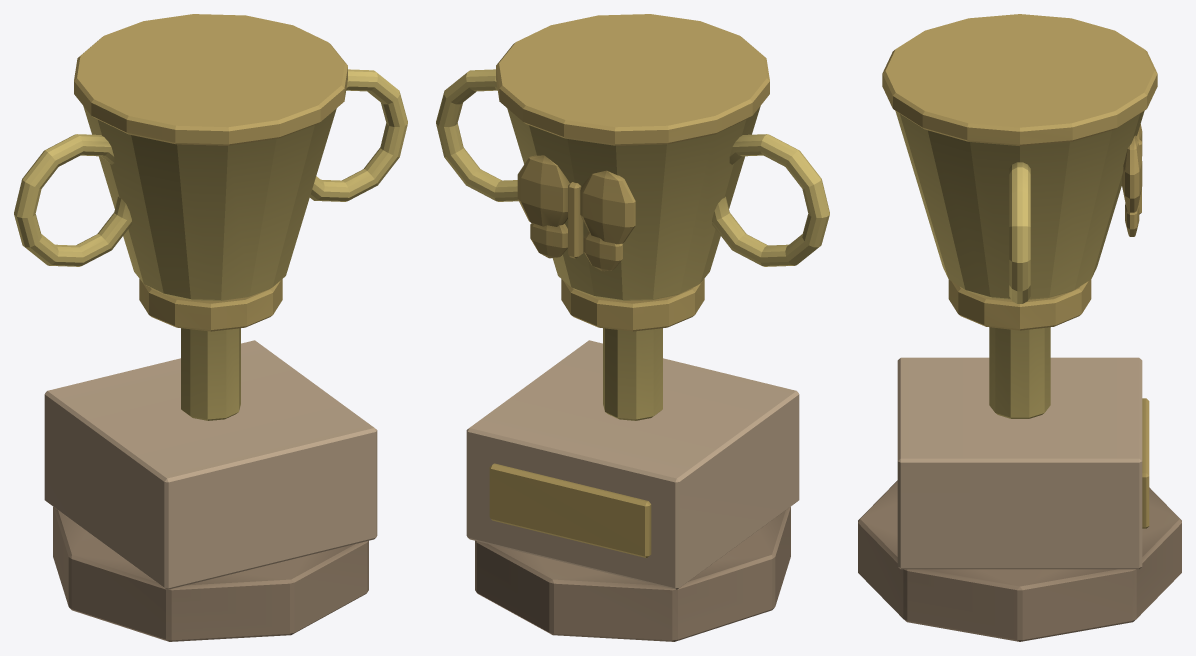
File: event_trophy_bug_gold.glb
The picture shows the model from 3 angles, left to right: view 1: azimuth 30°, elevation 25°; view 2: azimuth 150°, elevation 25°; view 3: azimuth 270°, elevation 25°; orthographic projection.
Size of the model in its own units: 0.441 by 0.545 by 0.3177.
